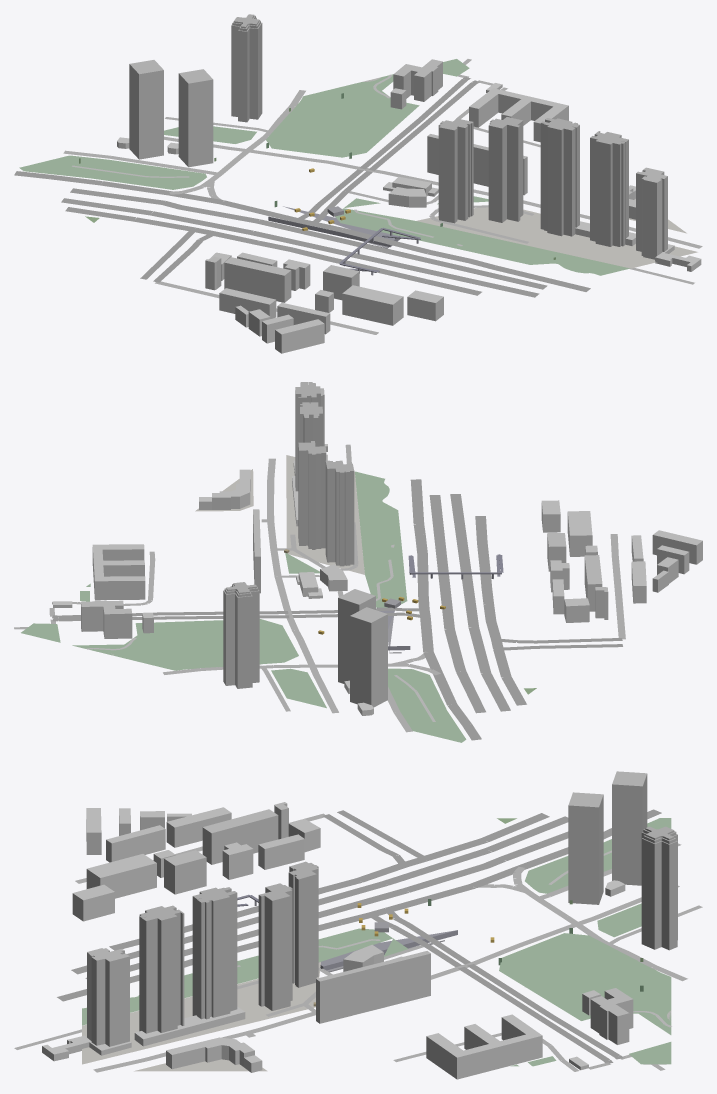
3 renders of one model, top to bottom at view 1: azimuth 30°, elevation 25°; view 2: azimuth 150°, elevation 25°; view 3: azimuth 270°, elevation 25°, orthographic. The views are drawn at different scales.
Size of the model in its own units: 545 by 138 by 584.
